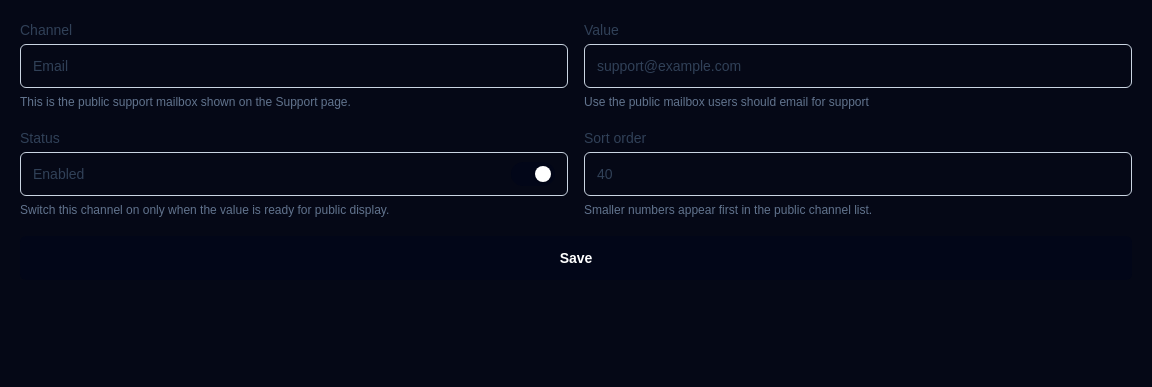
Test case: SupportChannelSettingsForm › shows inline success for only the submitted support channel
Click the checkbox at (294, 174), box [20, 128, 568, 220]
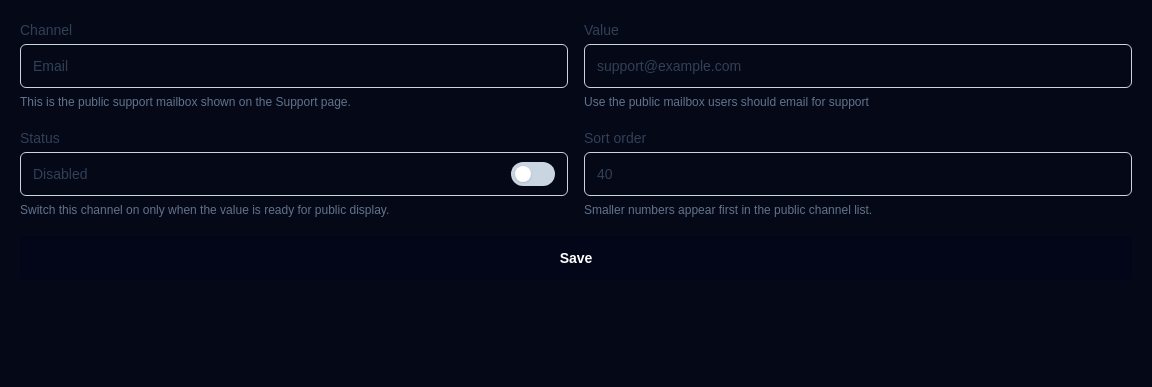
Submit the form named "Email"
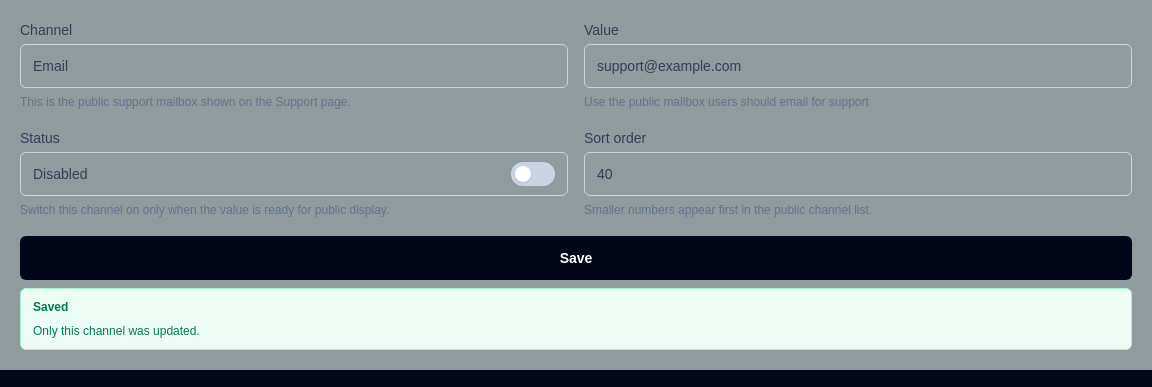
Check: the text "Disabled" is shown, box [33, 164, 88, 184]
Check: the message shows "Saved", box [33, 300, 68, 314]
